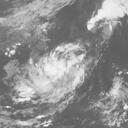cyclone: (23, 42, 84, 102)
